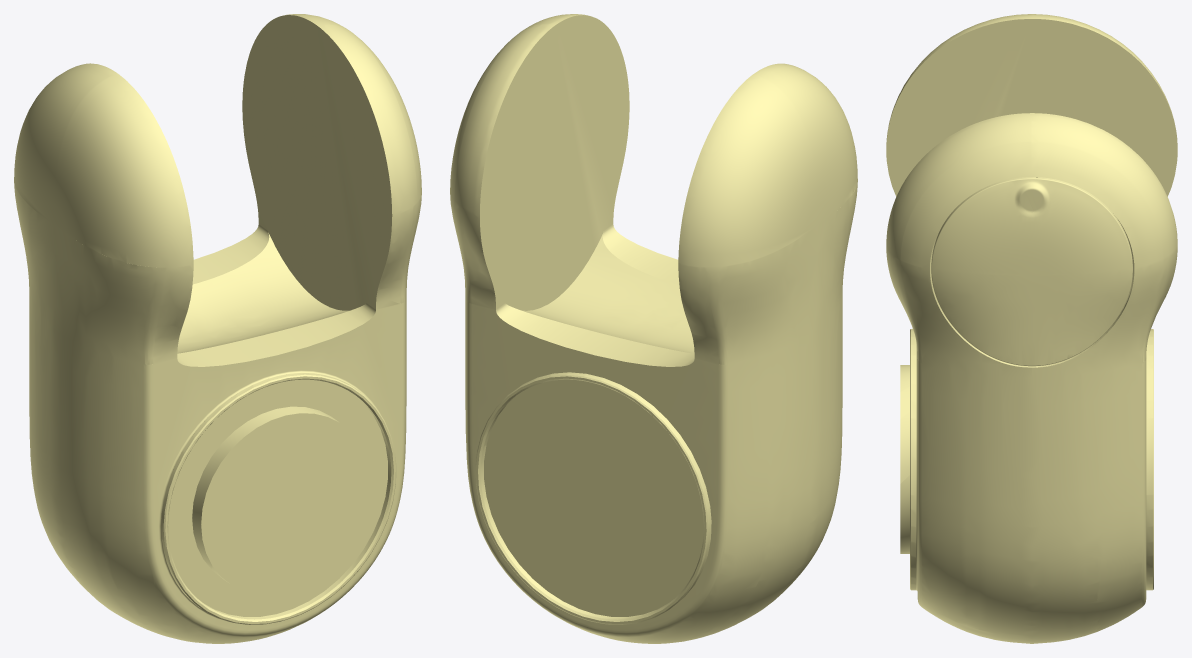
The model's file is wrist_yaw_l_j6_link.glb.
3 renders of one model, left to right at view 1: azimuth 30°, elevation 25°; view 2: azimuth 150°, elevation 25°; view 3: azimuth 270°, elevation 25°, orthographic. The views are drawn at different scales.
Parts seen in each view (by area): view 1: Mesh_0.004; view 2: Mesh_0.004; view 3: Mesh_0.004.
Boxes of the visible parts, box(x1,y1,x2,y2) form: Mesh_0.004: box(14, 14, 421, 643); Mesh_0.004: box(450, 14, 857, 643); Mesh_0.004: box(886, 14, 1177, 643).
Bounding box in the file's own units: 0.0955 × 0.1606 × 0.0758.
